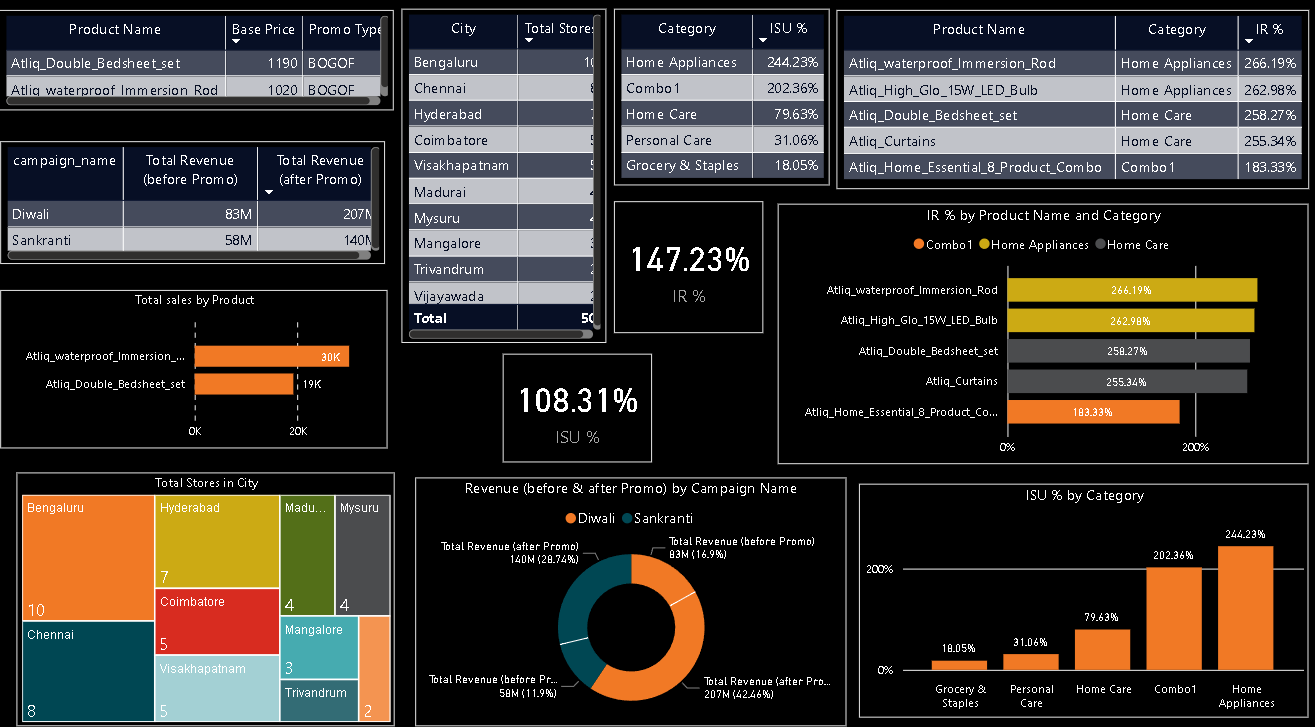

This screenshot's page, from the dashboard's own definition file:
{"tool":"powerbi","page":{"name":"Insights","canvas":[1280,720],"ordinal":3},"visuals":[{"type":"tableEx","fields":{"Values":["dim_stores.city","dim_stores.store_id"]},"box":[397.4,23.5,198,322.6],"z":0},{"type":"tableEx","fields":{"Values":["dim_products.product_name","fact_events.base_price","fact_events.promo_type"]},"box":[9.6,24.1,381.1,96.5],"z":1000},{"type":"tableEx","fields":{"Values":["dim_campaigns.campaign_name","Key Measures.Total Revenue (before Promo)","Key Measures.Total Revenue (after Promo)"]},"box":[10.3,151.1,371,118.8],"z":2000},{"type":"tableEx","fields":{"Values":["dim_products.category","Key Measures.ISU %"]},"box":[602.8,23.5,208.3,170.1],"z":3000},{"type":"tableEx","fields":{"Values":["dim_products.product_name","dim_products.category","Key Measures.IR %"]},"box":[817.3,23.7,456,172.9],"z":4000},{"type":"treemap","title":"Total Stores in City","fields":{"Group":["dim_stores.city"],"Values":["CountNonNull(dim_stores.store_id)"]},"box":[26.2,470,365,245],"z":5000},{"type":"donutChart","title":"Revenue (before & after Promo) by Campaign Name","fields":{"Category":["dim_campaigns.campaign_name"],"Y":["Key Measures.Total Revenue (before Promo)","Key Measures.Total Revenue (after Promo)"]},"box":[411.4,475.6,415.6,239.9],"z":6000},{"type":"barChart","fields":{"Category":["dim_products.product_name"],"Series":["dim_products.category"],"Y":["Key Measures.IR %"]},"box":[761.5,210.6,511.8,251],"z":7000},{"type":"columnChart","fields":{"Category":["dim_products.category"],"Y":["Key Measures.ISU %"]},"box":[839.6,481.2,433.7,225.9],"z":8000},{"type":"barChart","title":"Total sales by Product","fields":{"Category":["dim_products.product_name"],"Y":["Key Measures.Total sales"]},"box":[10.3,294.8,374,152.5],"z":9000},{"type":"card","fields":{"Values":["Key Measures.IR %"]},"box":[602.5,208.8,143.8,127.5],"z":10000},{"type":"card","fields":{"Values":["Key Measures.ISU %"]},"box":[496.2,356.2,143.8,105],"z":11000}]}

Visuals, with their boxes in screenshot pixels (x1, y1, x2, y2), scaled from the page's 1280x720 canvas onto the 1315x727 screenshot:
tableEx - dim_stores.city x dim_stores.store_id: select_region(408, 24, 612, 349)
tableEx - dim_products.product_name x fact_events.base_price: select_region(10, 24, 401, 122)
tableEx - dim_campaigns.campaign_name x Key Measures.Total Revenue (before Promo): select_region(11, 153, 392, 273)
tableEx - dim_products.category x Key Measures.ISU %: select_region(619, 24, 833, 195)
tableEx - dim_products.product_name x dim_products.category: select_region(840, 24, 1308, 199)
"Total Stores in City" treemap: select_region(27, 475, 402, 722)
"Revenue (before & after Promo) by Campaign Name" donutChart: select_region(423, 480, 850, 722)
barChart - dim_products.product_name x dim_products.category: select_region(782, 213, 1308, 466)
columnChart - dim_products.category x Key Measures.ISU %: select_region(863, 486, 1308, 714)
"Total sales by Product" barChart: select_region(11, 298, 395, 452)
card - Key Measures.IR %: select_region(619, 211, 767, 340)
card - Key Measures.ISU %: select_region(510, 360, 658, 466)
